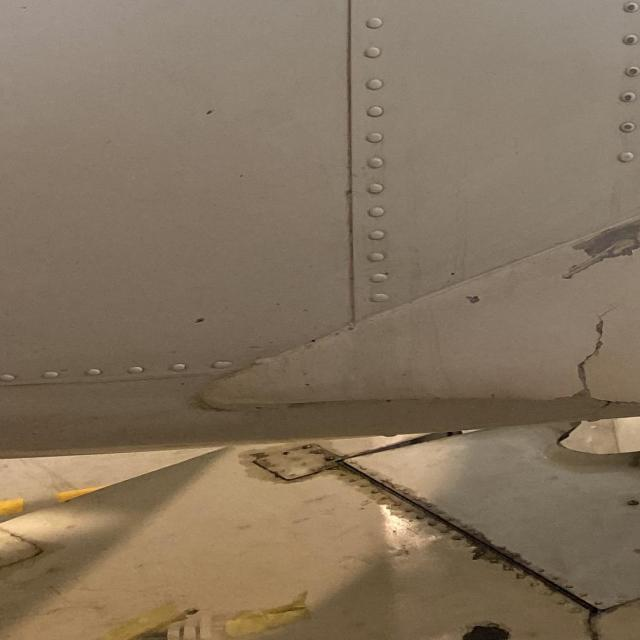Crack: (563, 317, 603, 401)
Paint-off: (463, 297, 478, 306)
Scratch: (531, 208, 640, 289)
